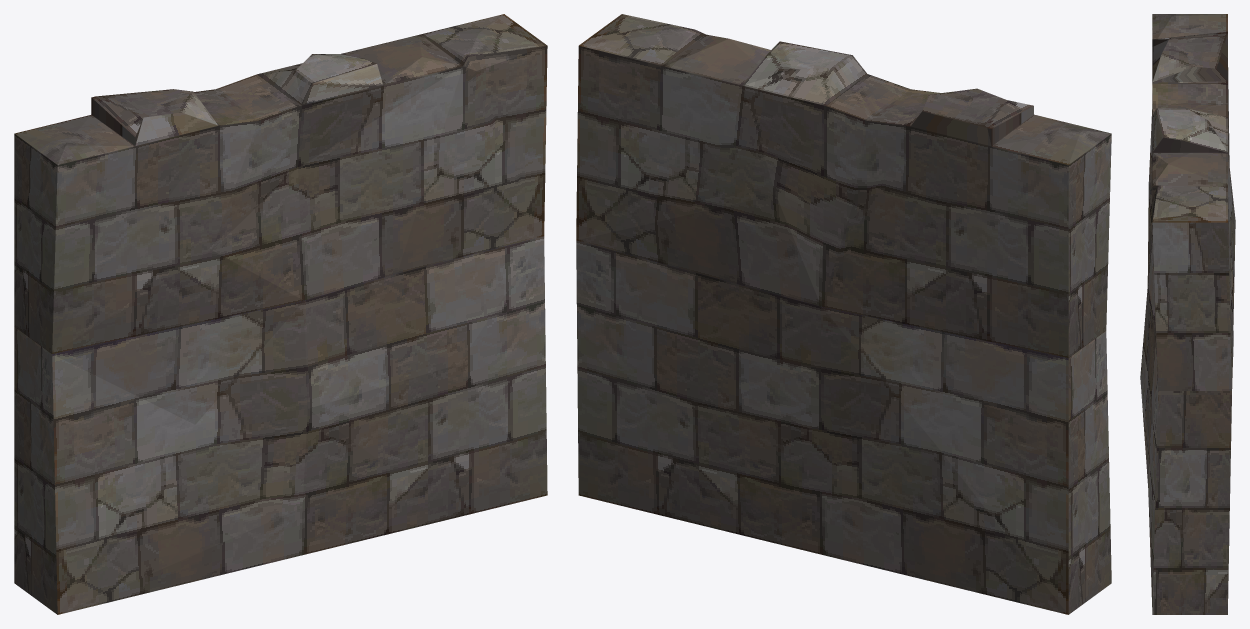
Rendered from item_castle_wall.glb.
The picture shows the model from 3 angles, left to right: view 1: azimuth 30°, elevation 25°; view 2: azimuth 150°, elevation 25°; view 3: azimuth 270°, elevation 25°; orthographic projection. The views are drawn at different scales.
Parts seen in each view (by area): view 1: Wall; view 2: Wall; view 3: Wall.
Part boxes in pixels (left/top/right/bottom): Wall: left=14, top=14, right=547, bottom=614; Wall: left=576, top=14, right=1111, bottom=614; Wall: left=1140, top=14, right=1235, bottom=614.
Size of the model in its own units: 1.93 by 1.75 by 0.372.
1 material, 1 textured.
